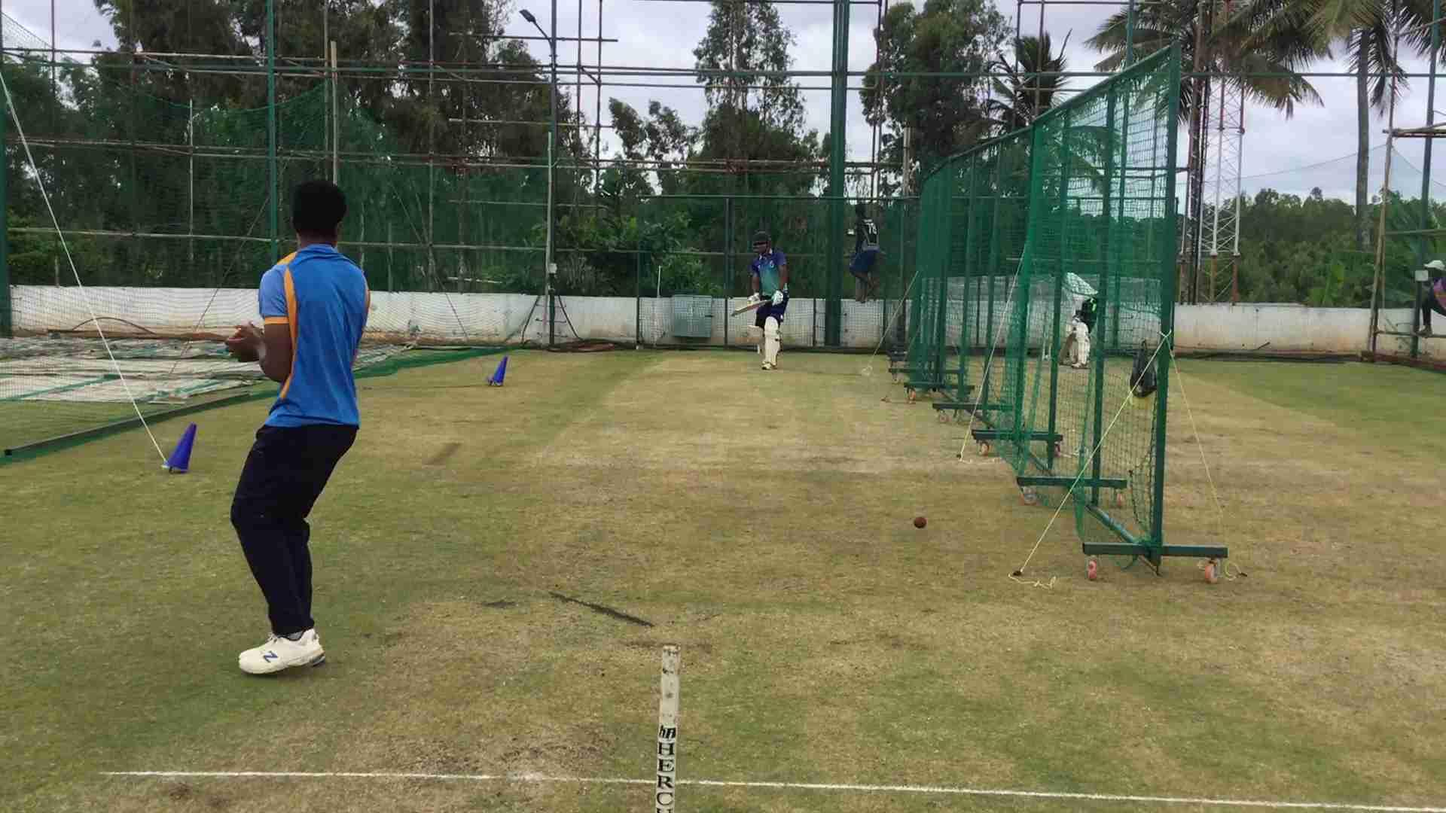batsman: (742, 225, 793, 373)
